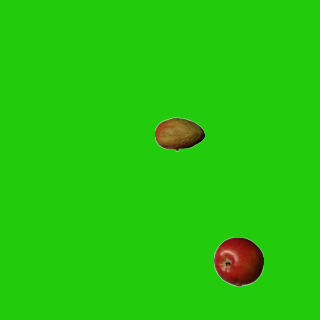Apple Braeburn: (213, 236, 263, 286)
Papaya: (154, 109, 204, 159)
